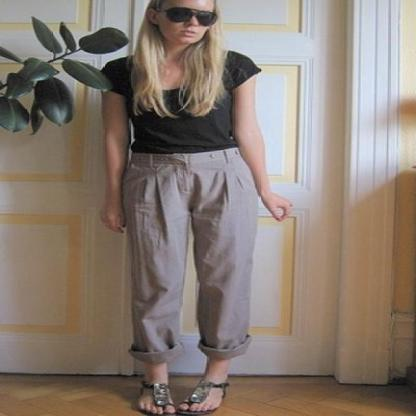pants: (119, 147, 270, 389)
shirt: (101, 51, 261, 154)
shoe: (140, 387, 222, 413)
sunglass: (166, 7, 218, 27)
